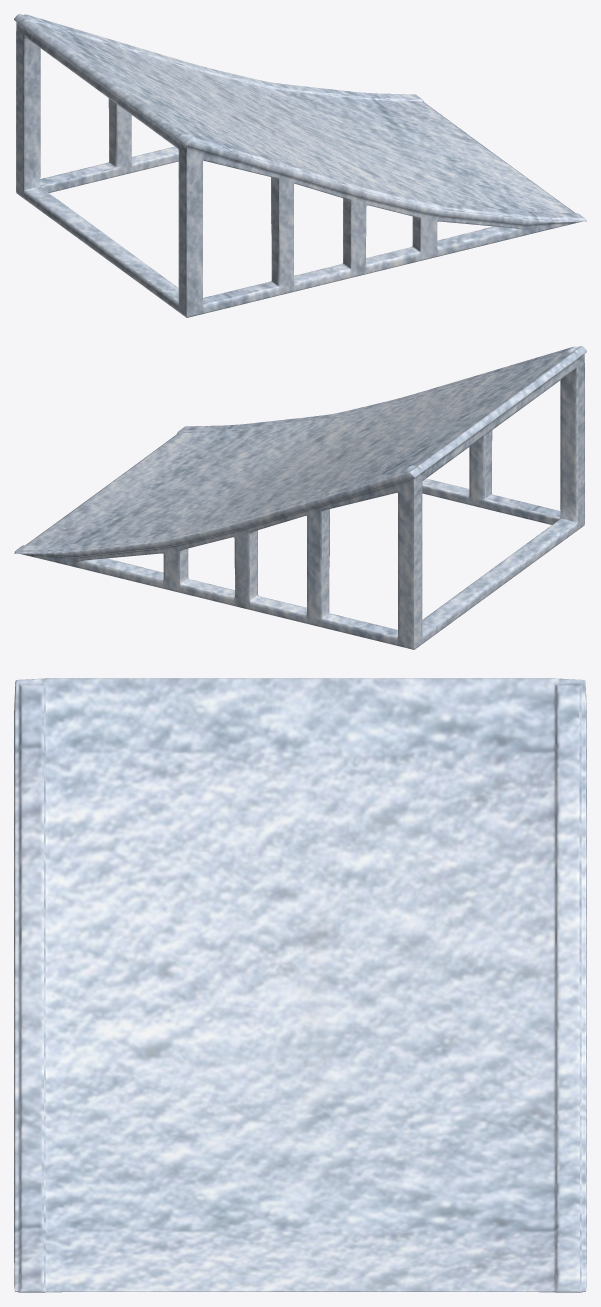
Rendered from rampa.obj.
3 views of the same model, one above another, from view 1: azimuth 30°, elevation 25°; view 2: azimuth 150°, elevation 25°; view 3: azimuth 270°, elevation 25° (orthographic). The views are drawn at different scales.
Visible parts, largest first — view 1: rampaPinguino; view 2: rampaPinguino; view 3: rampaPinguino.
Boxes of the visible parts, <box> form: rampaPinguino: <box>14,14,586,317</box>; rampaPinguino: <box>14,346,586,649</box>; rampaPinguino: <box>14,678,586,1292</box>.
Bounding box in the file's own units: 12.42 × 5.26 × 9.28.
Materials: 1 (1 with a texture image).
